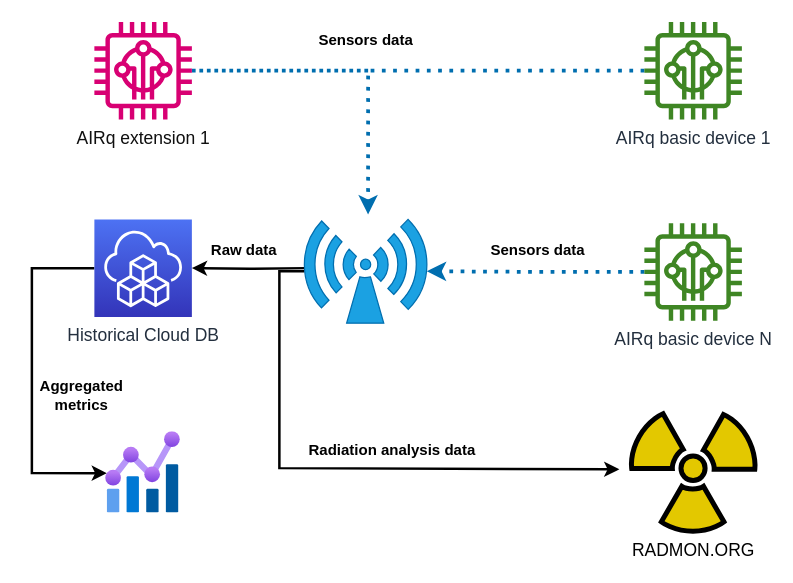
The diagram is 793 pixels wide and 583 high, and some of its shapes have lost their labels. Here are the shapes that lost their labels. From the top down, the centre of each, then its label:
(x=365, y=270): Raspberry Pi MQTT Broker
(x=142, y=471): Grafana or custom app
